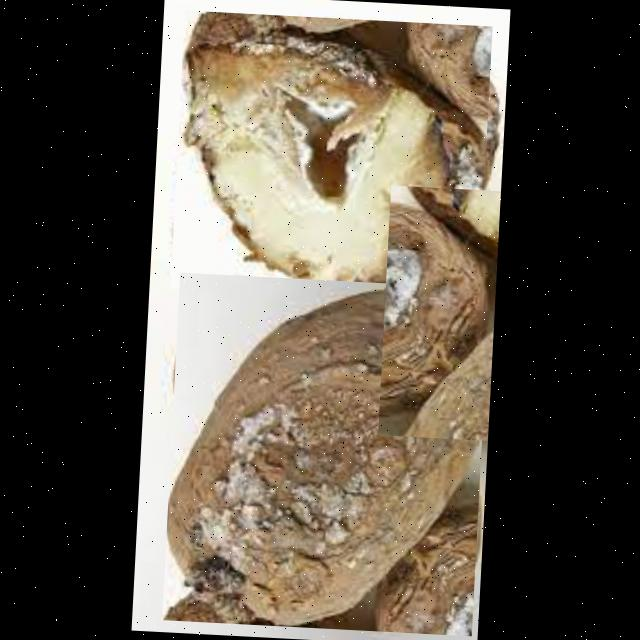Damaged potato: (161, 273, 489, 636), (169, 11, 492, 304), (377, 186, 500, 440)
